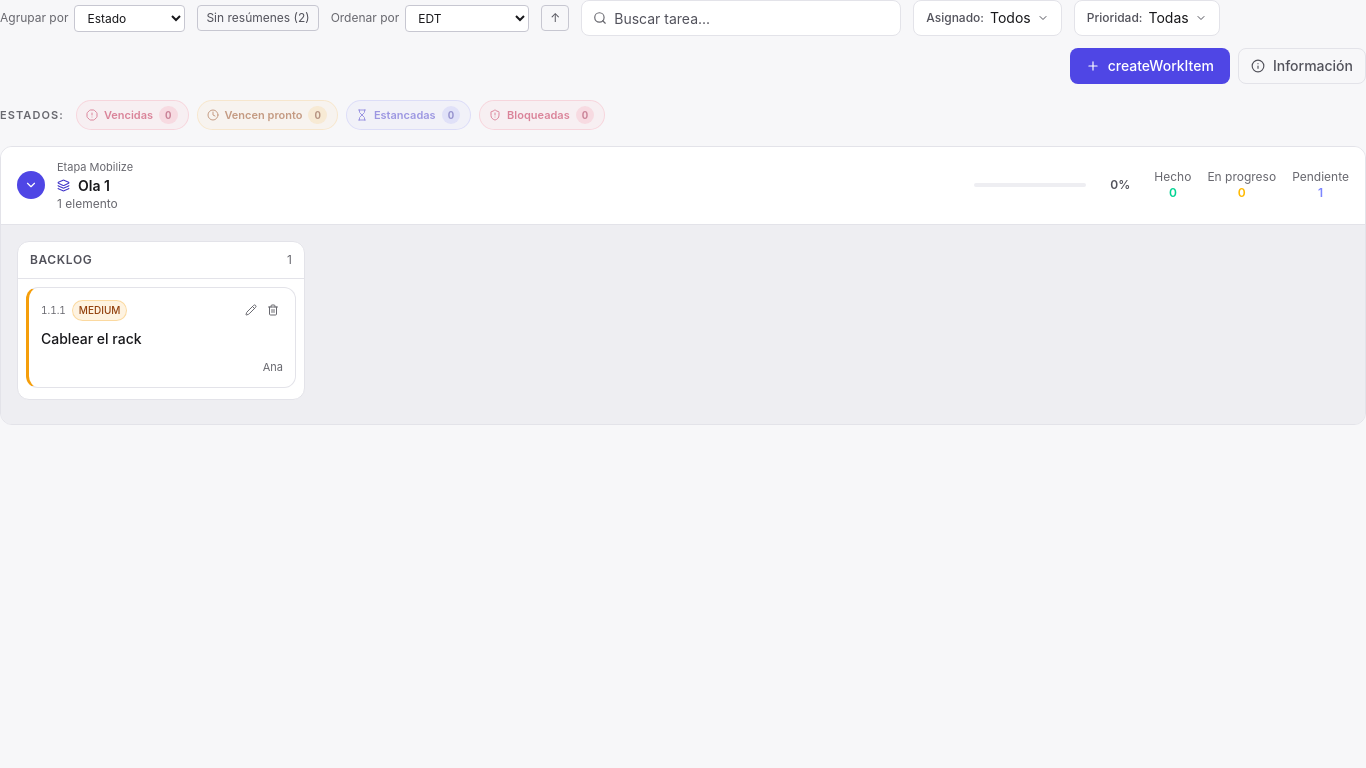
Test: §5.1 · quién encabeza cada banda del árbol › la etapa no cae en la banda de su nieta
What coordinates should you click on to do the following:
click the button with test id "conmutador-resumenes"
I would click on:
 (258, 18)
Its box is [197,5,319,31].
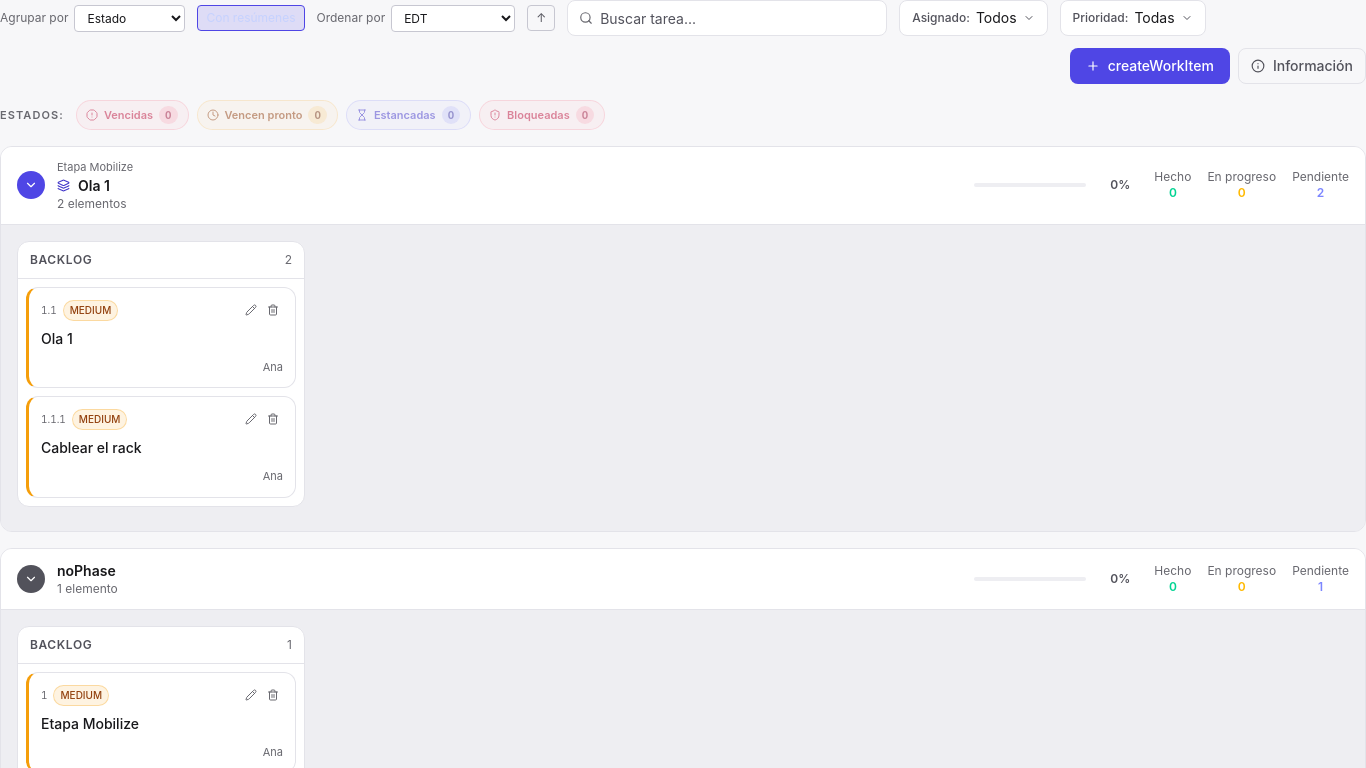
Result: the text with test id "edt-tarjeta-etapa" is shown at [41,688,48,702]
